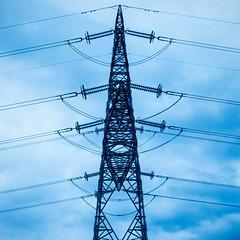power_tower: (43, 3, 189, 240)
